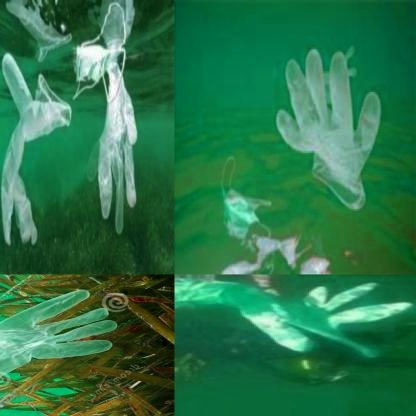Mask: (209, 147, 278, 249), (72, 39, 126, 105)
glove: (174, 275, 414, 359), (276, 34, 387, 214), (0, 284, 123, 412), (2, 52, 72, 248), (85, 74, 138, 241), (311, 42, 366, 114)
